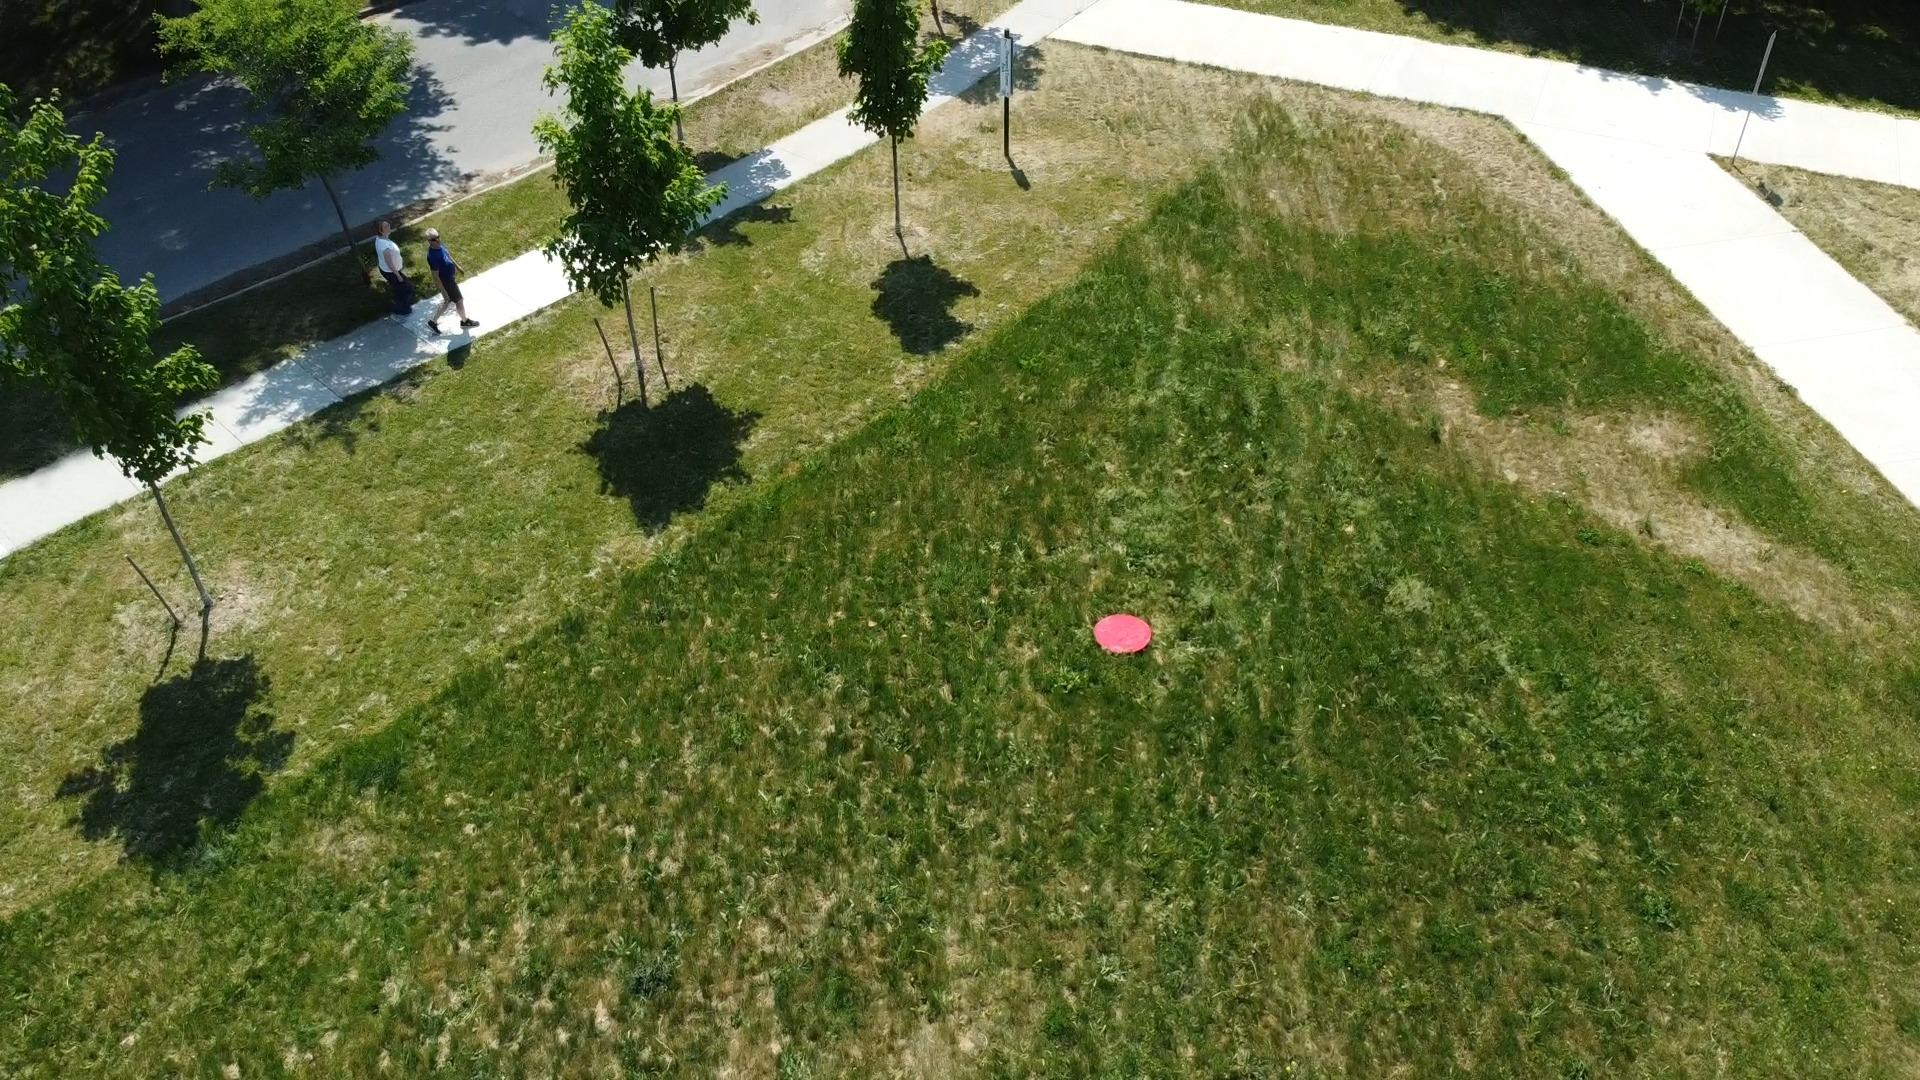Red: (1092, 613, 1154, 655)
